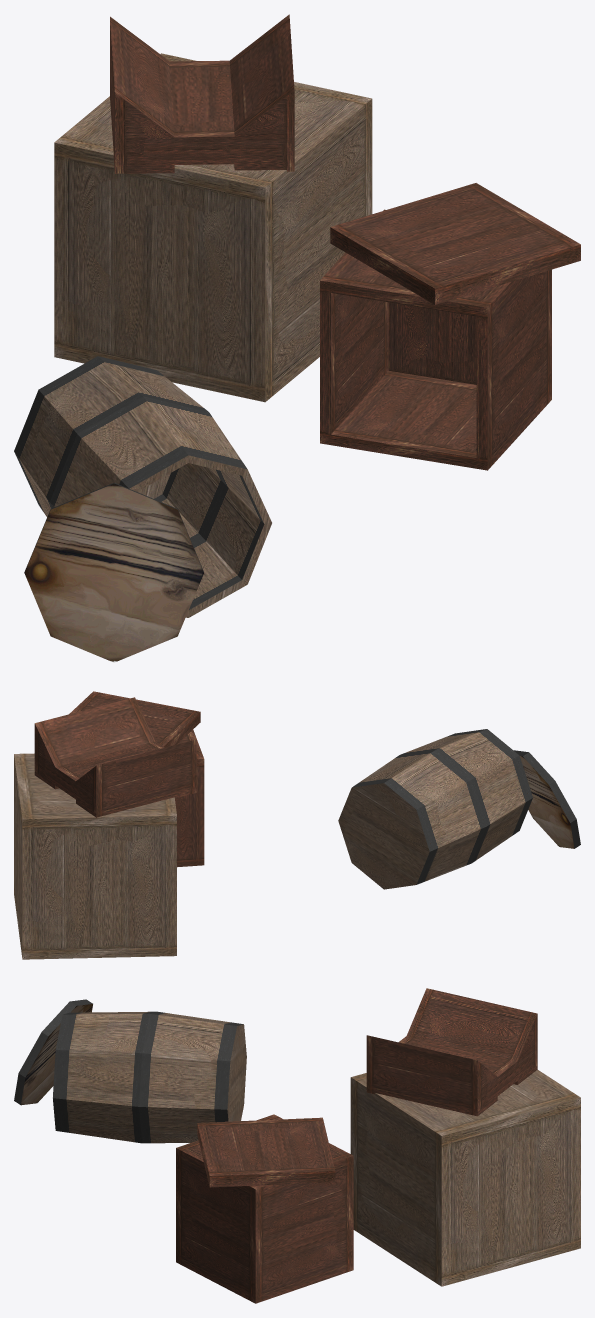
Rendered from radio_props.glb.
3 views of the same model, one above another, from view 1: azimuth 30°, elevation 25°; view 2: azimuth 150°, elevation 25°; view 3: azimuth 270°, elevation 25° (orthographic). The views are drawn at different scales.
Parts seen in each view (by area): view 1: Object_4, Object_12, Object_10, Object_20, Object_16, Object_18; view 2: Object_4, Object_10, Object_16, Object_20, Object_12, Object_18; view 3: Object_4, Object_10, Object_12, Object_16, Object_18, Object_20.
Part boxes in pixels (x1,y1,x2,y2): Object_4: [54, 53, 372, 402]; Object_12: [320, 209, 551, 470]; Object_10: [14, 356, 271, 617]; Object_20: [24, 482, 203, 662]; Object_16: [110, 14, 294, 173]; Object_18: [330, 183, 580, 304]; Object_4: [14, 753, 176, 959]; Object_10: [338, 729, 532, 889]; Object_16: [34, 697, 196, 818]; Object_20: [514, 750, 580, 848]; Object_12: [175, 729, 204, 867]; Object_18: [69, 691, 200, 747]; Object_4: [350, 1069, 580, 1286]; Object_10: [53, 1011, 246, 1143]; Object_12: [176, 1114, 353, 1303]; Object_16: [366, 988, 537, 1116]; Object_18: [197, 1117, 335, 1187]; Object_20: [14, 999, 92, 1105].
Size of the model in its own units: 2.31 by 1.02 by 2.48.
Materials: 2 (2 with a texture image).
